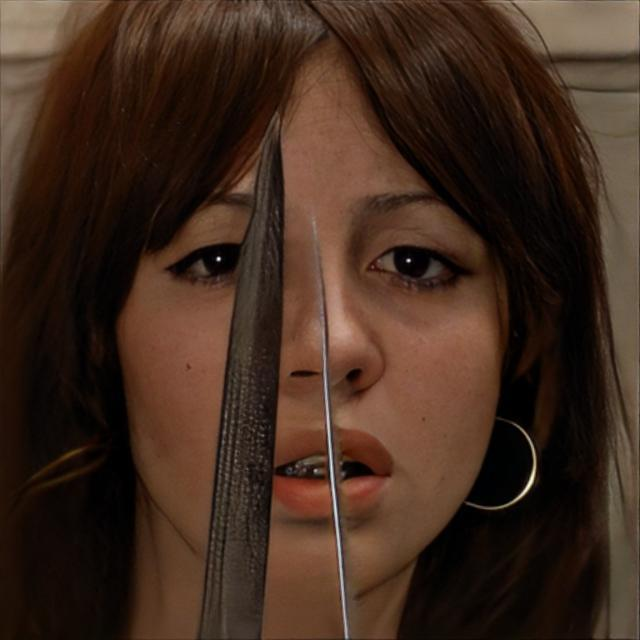sad: (119, 23, 506, 603)
